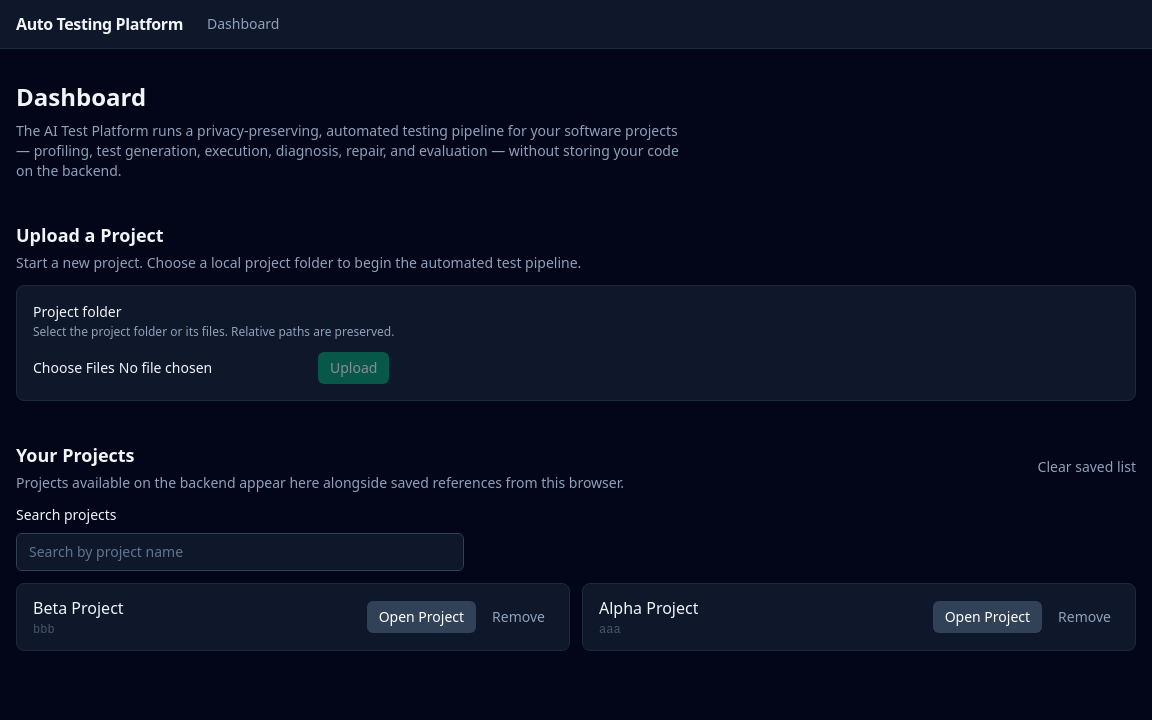
Test: DashboardPage › allows removing a single saved project without reloading
The image size is (1152, 720).
Click the button with aria-label "remove alpha project": (1085, 617) [1050, 601, 1119, 633]
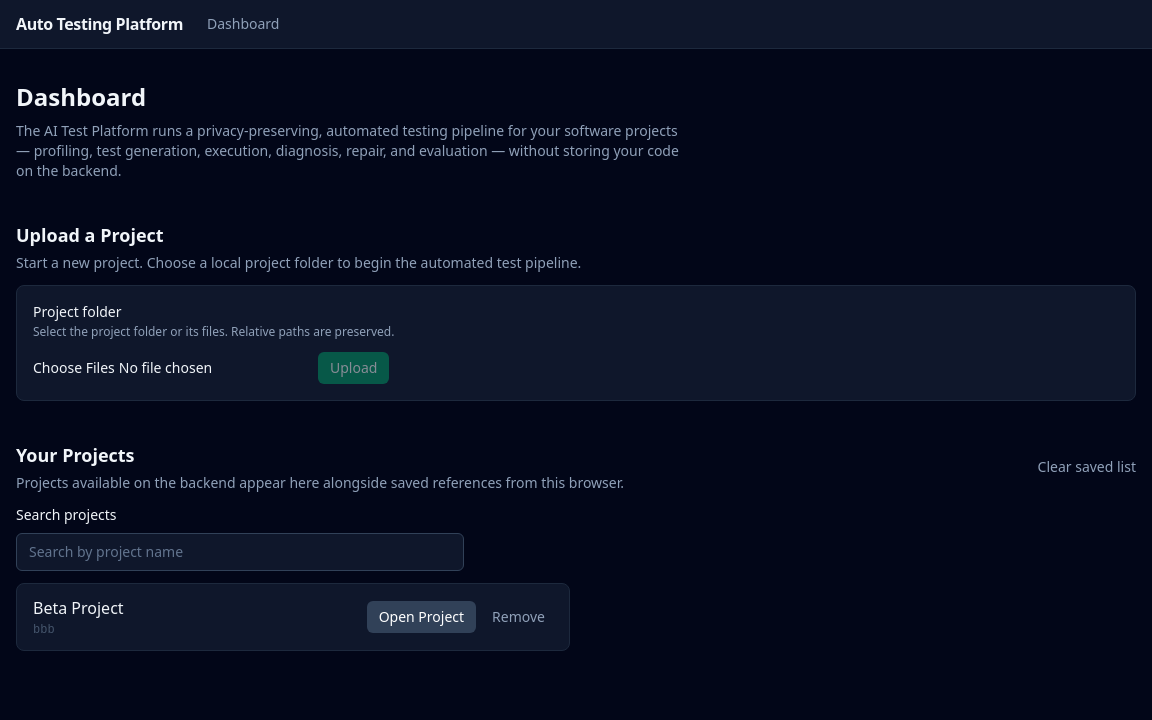
Expected: the text "Beta Project" is shown, [33, 596, 124, 620]
Expected: the text "Alpha Project" is gone
